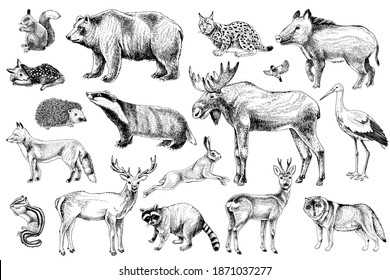animal: (191, 71, 330, 182), (67, 9, 193, 84), (55, 157, 155, 248), (276, 14, 386, 89), (220, 159, 300, 252), (87, 89, 200, 147), (4, 123, 103, 186), (140, 198, 228, 252), (305, 196, 389, 252), (6, 193, 62, 256), (195, 9, 274, 53), (152, 143, 221, 193), (30, 96, 93, 130), (5, 57, 67, 89), (17, 4, 58, 45)
bird: (321, 83, 387, 183), (265, 60, 291, 83)
